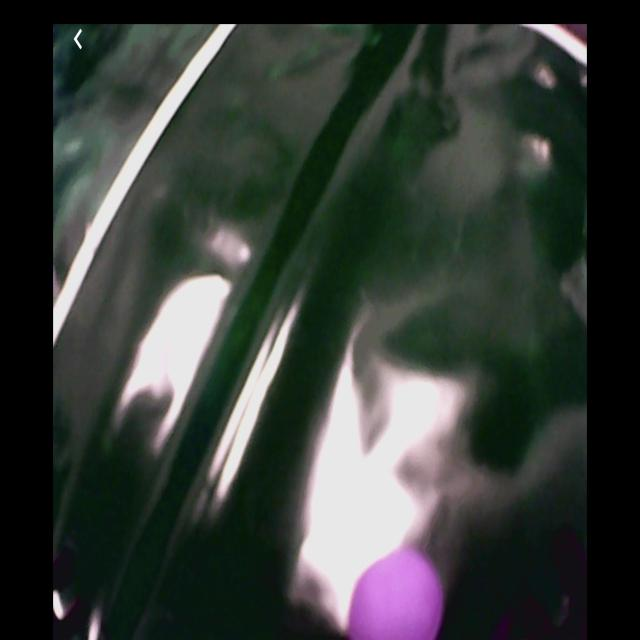ball: (347, 547, 447, 640)
